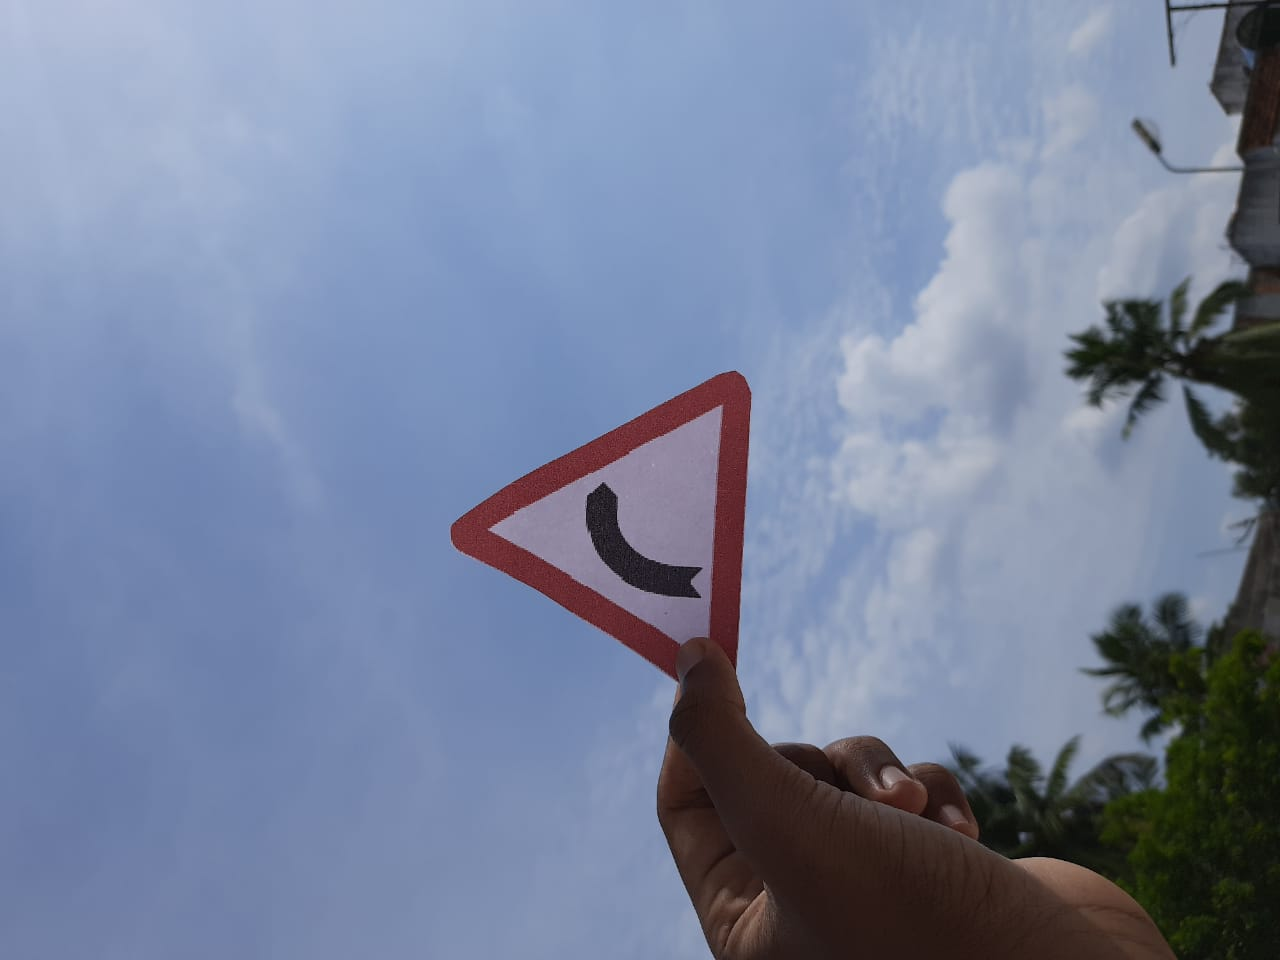RIGHT CURVE: (441, 354, 776, 714)
